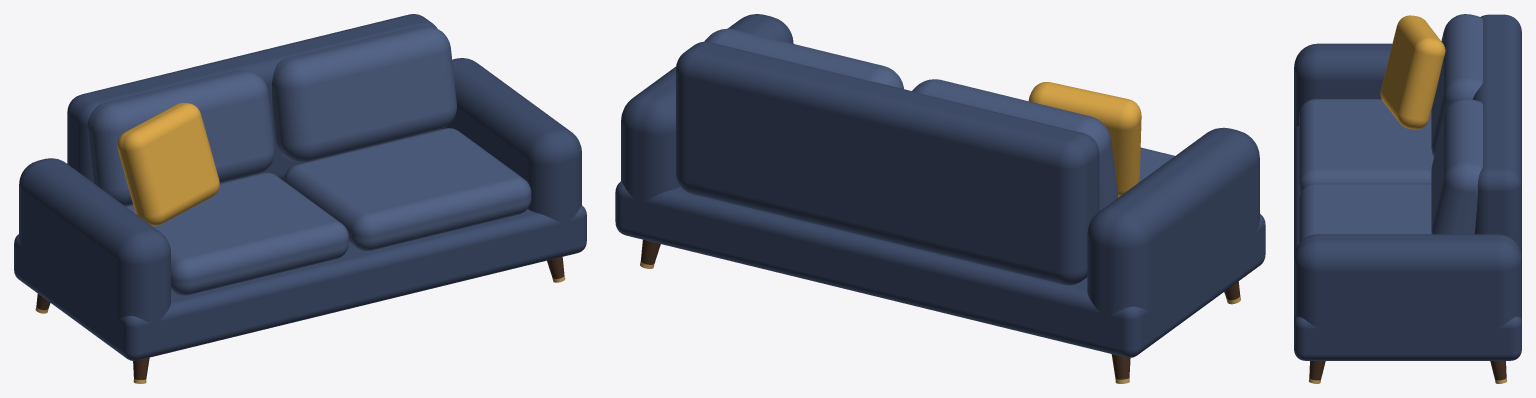
File: sofa.glb
3 renders of one model, left to right at view 1: azimuth 30°, elevation 25°; view 2: azimuth 150°, elevation 25°; view 3: azimuth 270°, elevation 25°, orthographic. The views are drawn at different scales.
Visible parts, largest first — view 1: sofa; view 2: sofa; view 3: sofa.
Boxes of the visible parts, box(x1,y1,x2,y2) form: sofa: box(14, 14, 586, 383); sofa: box(615, 14, 1265, 383); sofa: box(1294, 14, 1521, 383).
Bounding box in the file's own units: 2 × 0.8689 × 0.9.
